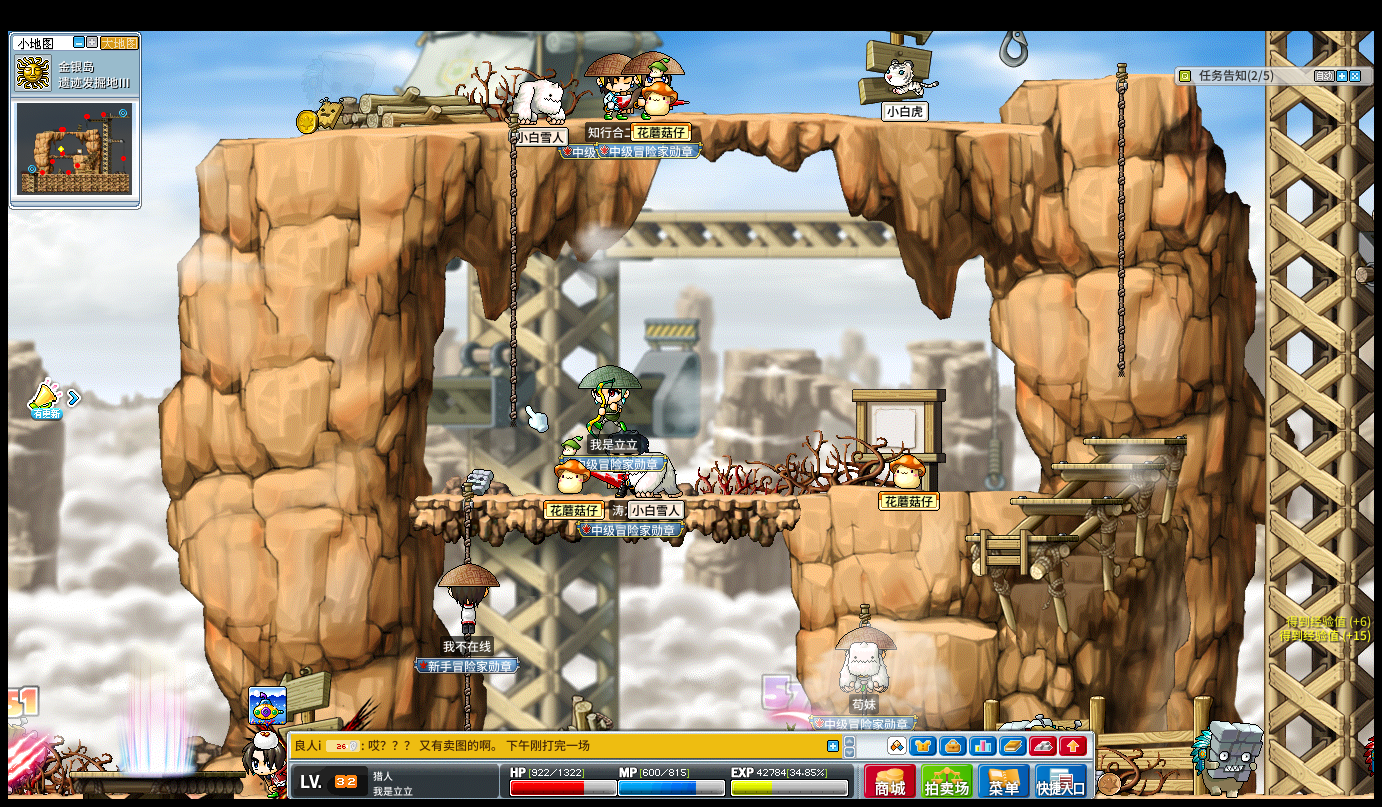floor: (176, 109, 1066, 143), (414, 492, 810, 504), (409, 492, 714, 503), (892, 618, 998, 640), (1021, 70, 1179, 83), (919, 491, 1096, 500), (1080, 435, 1187, 447), (924, 489, 1044, 498), (962, 533, 1077, 542), (930, 487, 1042, 496), (1047, 461, 1161, 469), (1010, 496, 1123, 503)
monster: (1191, 721, 1263, 794), (931, 440, 1001, 489)
rope: (1114, 60, 1128, 378), (508, 112, 518, 429), (461, 484, 473, 562), (462, 673, 472, 726)
